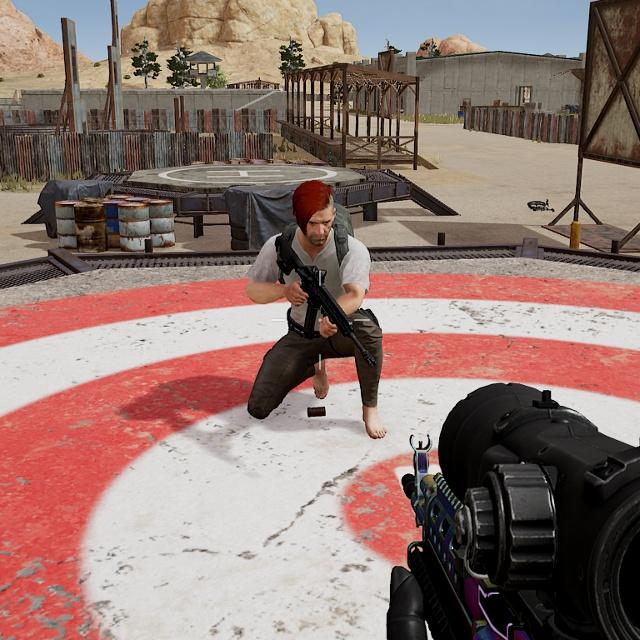head: (287, 179, 345, 252)
people: (237, 172, 398, 448)
